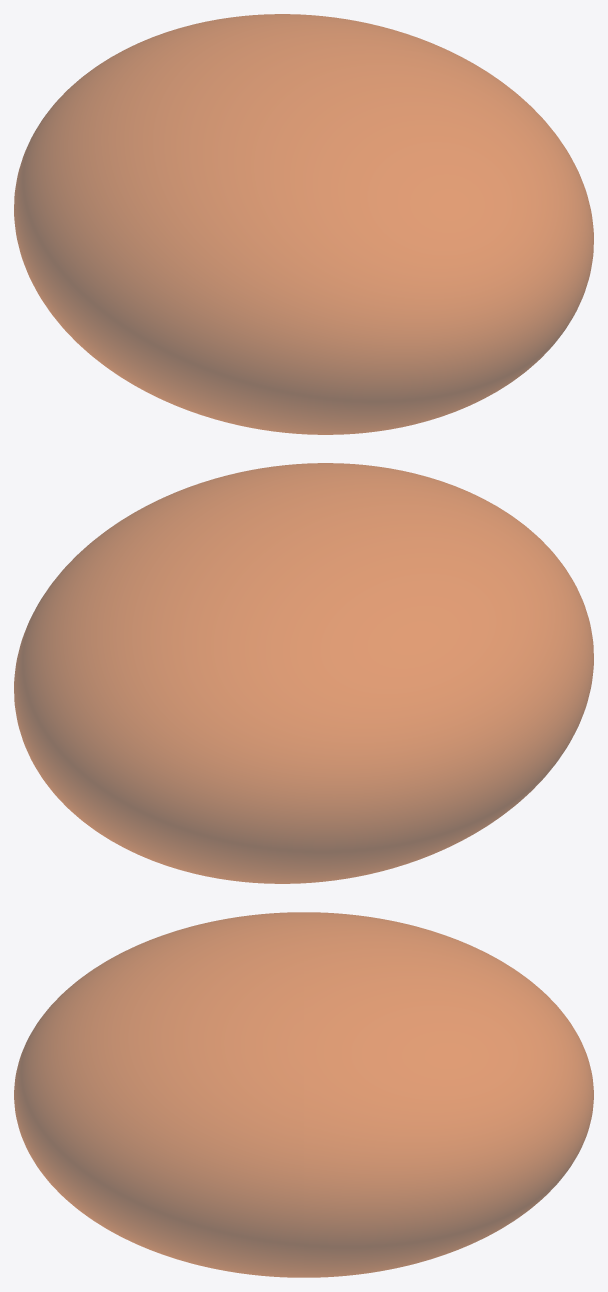
The model's file is carnelian.glb.
The picture shows the model from 3 angles, top to bottom: view 1: azimuth 30°, elevation 25°; view 2: azimuth 150°, elevation 25°; view 3: azimuth 270°, elevation 25°; orthographic projection. The views are drawn at different scales.
Parts seen in each view (by area): view 1: carnelian; view 2: carnelian; view 3: carnelian.
Part boxes in pixels (box(x1,y1,x2,y2)): carnelian: box(14, 14, 593, 434); carnelian: box(14, 463, 593, 883); carnelian: box(14, 912, 593, 1277).
Bounding box in the file's own units: 2.17 × 1.41 × 2.5.
